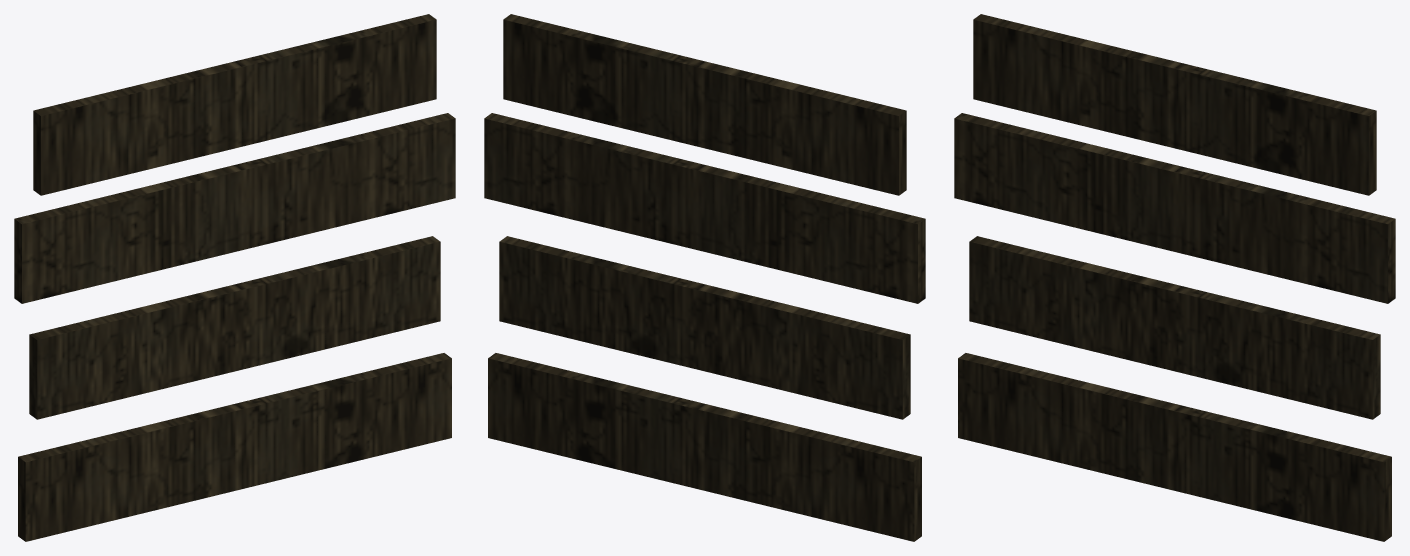
File: SM_Panel_Boards_1x1.fbx
3 renders of one model, left to right at view 1: azimuth 30°, elevation 25°; view 2: azimuth 150°, elevation 25°; view 3: azimuth 330°, elevation 25°, orthographic.
Visible parts, largest first — view 1: SM_Panel_Boards_1x1; view 2: SM_Panel_Boards_1x1; view 3: SM_Panel_Boards_1x1.
Part boxes in pixels (x1,y1,x2,y2): SM_Panel_Boards_1x1: [14, 14, 455, 541]; SM_Panel_Boards_1x1: [484, 14, 925, 541]; SM_Panel_Boards_1x1: [954, 14, 1395, 541].
Size of the model in its own units: 1.14 by 1.06 by 0.035.
